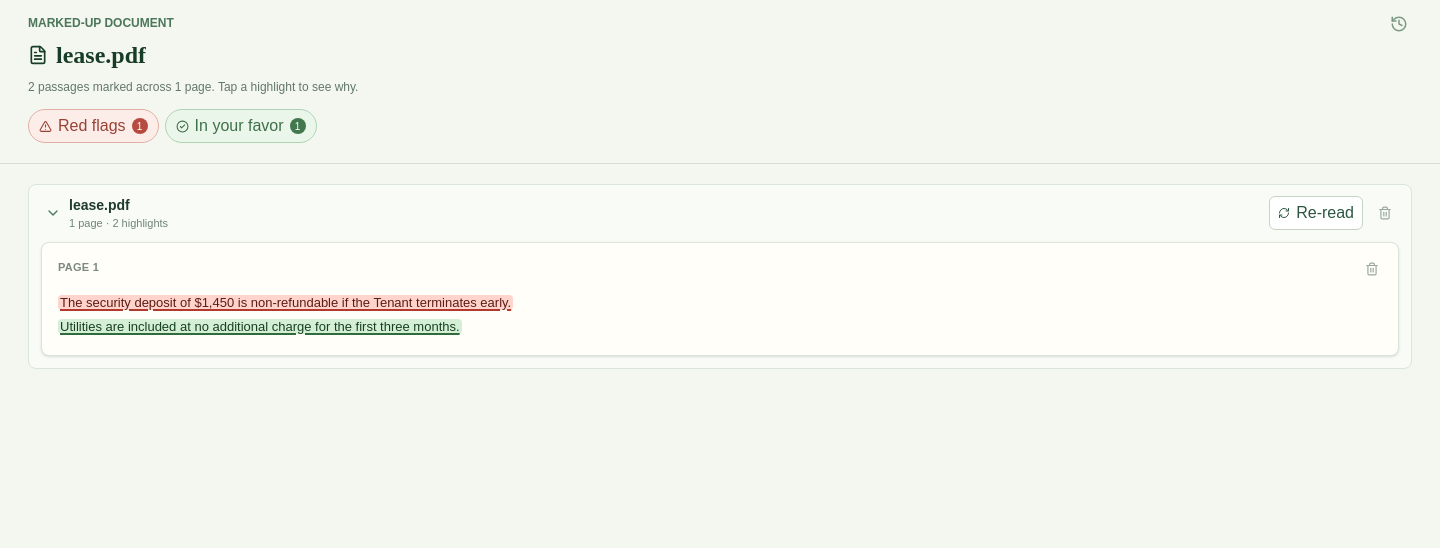
Test: editing the highlights › drops a highlight the reader removes and offers to put it back
Click the button with aria-label "Red flags: Money you may not get back".
click(286, 302)  # box [58,294,513,310]
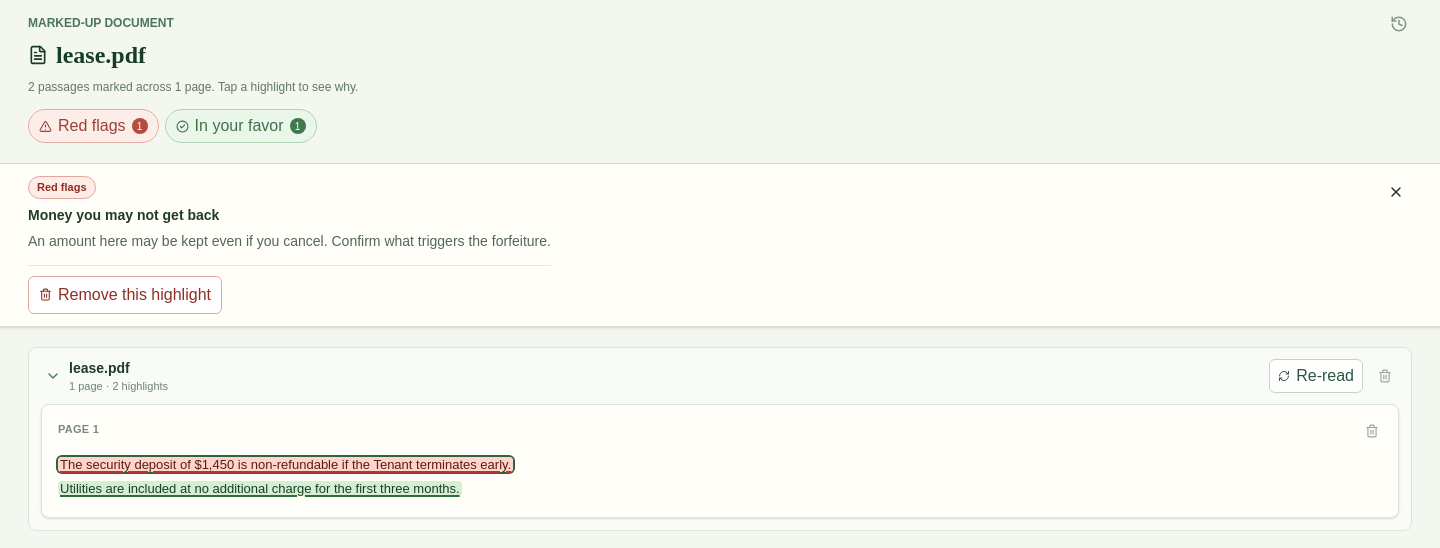
Click the button "Remove this highlight".
click(125, 294)  # box [28,276,222,314]
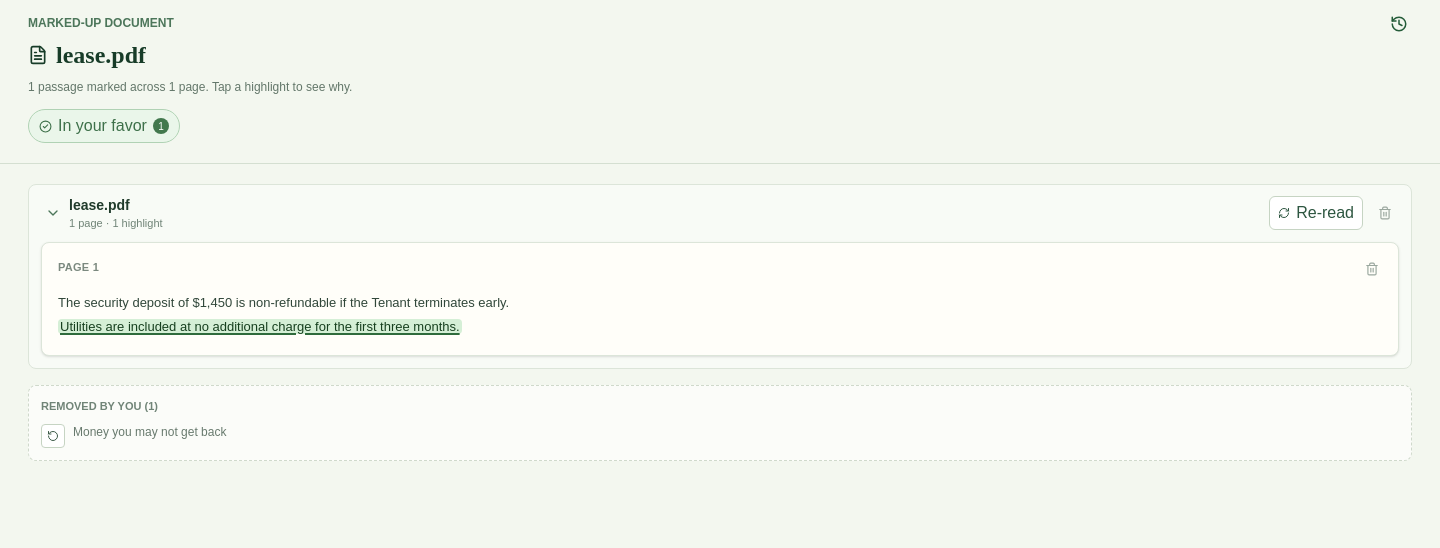
expect the text "Removed by you (1)" is shown: met, box [41,400,158,412]
